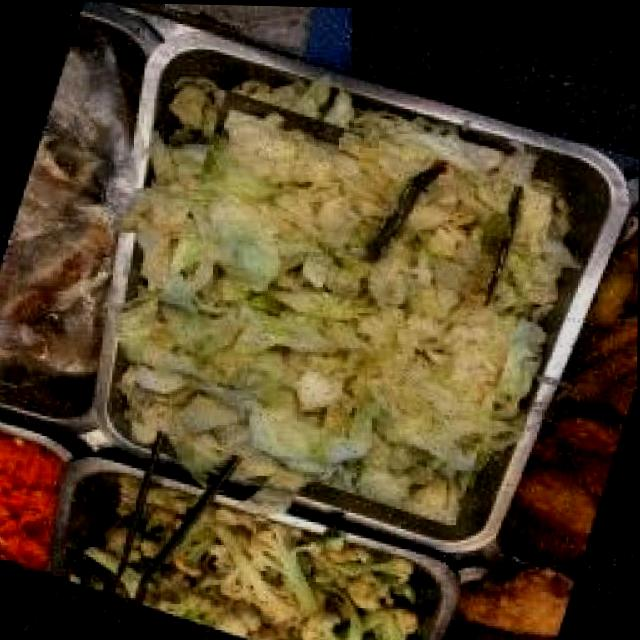carrot_eggs: (0, 428, 53, 564)
chinese_cabbage: (122, 87, 558, 528)
triangle_hash_brown: (527, 421, 621, 551)
